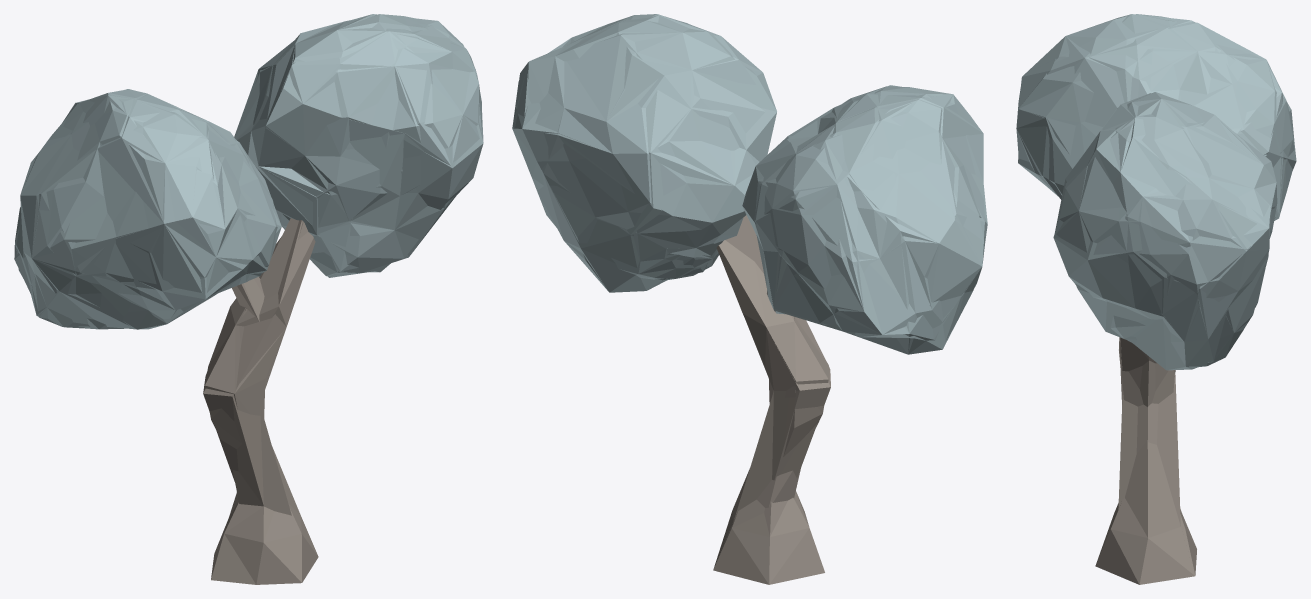
The model's file is Tree_00.fbx.
The picture shows the model from 3 angles, left to right: view 1: azimuth 30°, elevation 25°; view 2: azimuth 150°, elevation 25°; view 3: azimuth 270°, elevation 25°; orthographic projection. The views are drawn at different scales.
Visible parts, largest first — view 1: Tree_00_0 L, Tree_00_1 L; view 2: Tree_00_0 L, Tree_00_1 L; view 3: Tree_00_0 L, Tree_00_1 L.
Boxes of the visible parts, bbox=[...] form: Tree_00_0 L: bbox=[15, 14, 483, 582]; Tree_00_1 L: bbox=[14, 14, 481, 584]; Tree_00_0 L: bbox=[512, 15, 987, 584]; Tree_00_1 L: bbox=[512, 14, 984, 584]; Tree_00_0 L: bbox=[1016, 14, 1294, 584]; Tree_00_1 L: bbox=[1016, 14, 1296, 584].
Bounding box in the file's own units: 1149 × 1241 × 630.
